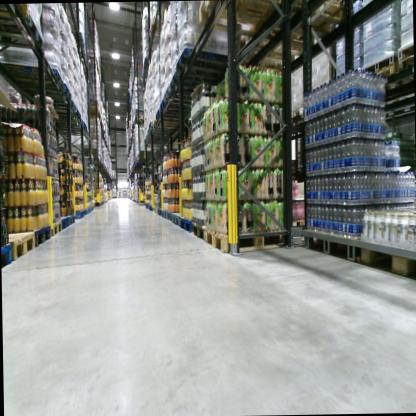pallet: (197, 0, 295, 41), (271, 0, 352, 48), (201, 221, 291, 251), (302, 223, 361, 266), (0, 6, 47, 58), (242, 33, 306, 71), (0, 57, 65, 92), (173, 44, 228, 85), (358, 242, 416, 279), (364, 58, 406, 102), (170, 67, 231, 95), (16, 84, 75, 106), (143, 17, 166, 70), (392, 46, 414, 93), (3, 229, 34, 261), (159, 94, 197, 117), (162, 83, 194, 109), (155, 107, 190, 127), (40, 104, 81, 120), (28, 223, 51, 249), (151, 116, 190, 130), (0, 5, 32, 22), (48, 129, 90, 140), (48, 122, 88, 133), (34, 101, 78, 110), (2, 240, 13, 272), (191, 222, 207, 242), (180, 214, 194, 234), (49, 218, 63, 237), (55, 120, 83, 129), (58, 215, 70, 229), (170, 213, 181, 228), (166, 207, 176, 221), (140, 68, 150, 80), (72, 210, 84, 219), (67, 214, 75, 226), (134, 113, 144, 122), (89, 100, 98, 107), (156, 208, 162, 218), (161, 209, 166, 220), (148, 204, 155, 211), (82, 208, 87, 217), (153, 206, 158, 214), (145, 202, 150, 209)
